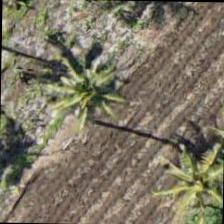Kelapa_Sawit: (32, 38, 124, 130), (166, 133, 223, 223)
